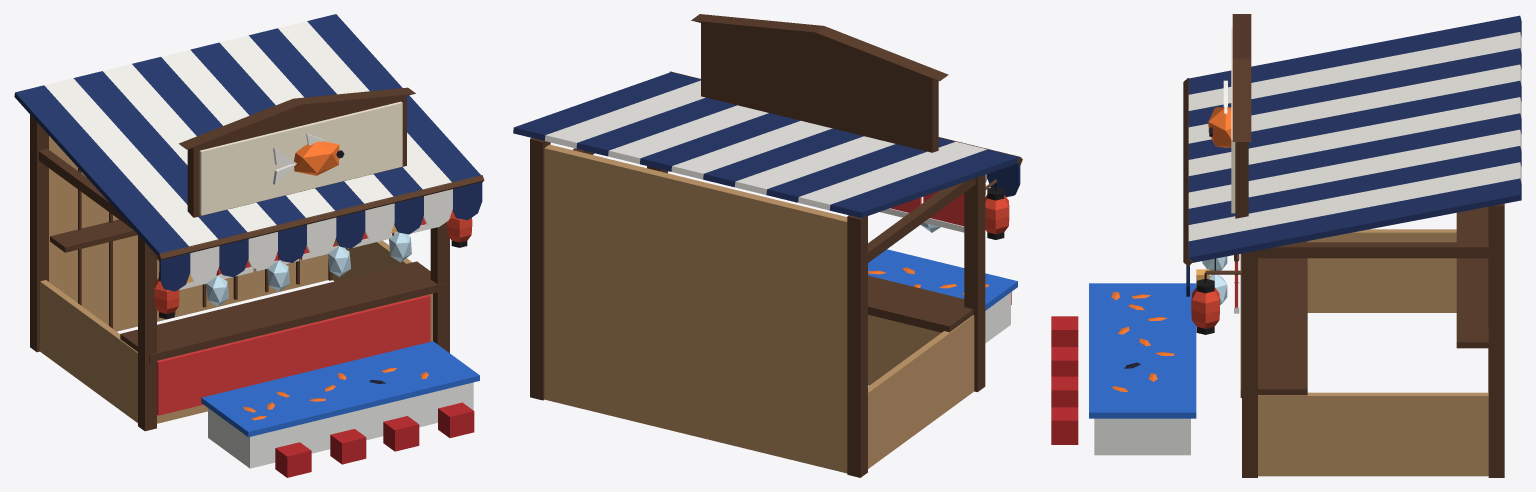
The model's file is stall-kingyo.glb.
3 renders of one model, left to right at view 1: azimuth 30°, elevation 25°; view 2: azimuth 150°, elevation 25°; view 3: azimuth 270°, elevation 25°, orthographic. The views are drawn at different scales.
Parts seen in each view (by area): view 1: StallKingyo_Wood, StallKingyo_AwningA, StallKingyo_AwningB, StallKingyo_WoodLight, StallKingyo_Noren, StallKingyo_Rim, StallKingyo_Sign, StallKingyo_Tub, StallKingyo_Stools, StallKingyo_Bag, StallKingyo_Fish, StallKingyo_Hem (+1 smaller); view 2: StallKingyo_WoodLight, StallKingyo_Wood, StallKingyo_AwningA, StallKingyo_AwningB, StallKingyo_Rim, StallKingyo_Noren, StallKingyo_Tub, StallKingyo_Lanterns; view 3: StallKingyo_AwningA, StallKingyo_WoodLight, StallKingyo_Wood, StallKingyo_AwningB, StallKingyo_Rim, StallKingyo_Tub, StallKingyo_Stools, StallKingyo_Fish, StallKingyo_Lanterns, StallKingyo_Sign, StallKingyo_Bag.
Boxes of the visible parts, bbox=[...] form: StallKingyo_Wood: bbox=[30, 87, 484, 431]; StallKingyo_AwningA: bbox=[14, 14, 482, 291]; StallKingyo_AwningB: bbox=[44, 21, 452, 284]; StallKingyo_WoodLight: bbox=[40, 136, 432, 423]; StallKingyo_Noren: bbox=[157, 217, 430, 415]; StallKingyo_Rim: bbox=[201, 341, 479, 437]; StallKingyo_Sign: bbox=[199, 101, 402, 215]; StallKingyo_Tub: bbox=[208, 382, 473, 468]; StallKingyo_Stools: bbox=[275, 402, 474, 477]; StallKingyo_Bag: bbox=[206, 232, 411, 306]; StallKingyo_Fish: bbox=[243, 141, 428, 420]; StallKingyo_Hem: bbox=[179, 133, 436, 289]; StallKingyo_WoodLight: bbox=[544, 144, 974, 473]; StallKingyo_Wood: bbox=[530, 14, 1022, 477]; StallKingyo_AwningA: bbox=[513, 72, 1020, 218]; StallKingyo_AwningB: bbox=[544, 80, 987, 210]; StallKingyo_Rim: bbox=[868, 249, 1017, 310]; StallKingyo_Noren: bbox=[890, 191, 964, 226]; StallKingyo_Tub: bbox=[985, 292, 1010, 343]; StallKingyo_Lanterns: bbox=[985, 195, 1009, 234]; StallKingyo_AwningA: bbox=[1186, 15, 1521, 296]; StallKingyo_WoodLight: bbox=[1258, 229, 1488, 476]; StallKingyo_Wood: bbox=[1183, 14, 1504, 477]; StallKingyo_AwningB: bbox=[1188, 32, 1521, 241]; StallKingyo_Rim: bbox=[1089, 283, 1196, 418]; StallKingyo_Tub: bbox=[1094, 418, 1190, 455]; StallKingyo_Stools: bbox=[1051, 316, 1078, 444]; StallKingyo_Fish: bbox=[1111, 107, 1231, 391]; StallKingyo_Lanterns: bbox=[1191, 287, 1219, 328]; StallKingyo_Sign: bbox=[1231, 28, 1235, 213]; StallKingyo_Bag: bbox=[1202, 256, 1227, 304].
Size of the model in its own units: 15.9 by 13.75 by 17.52.
